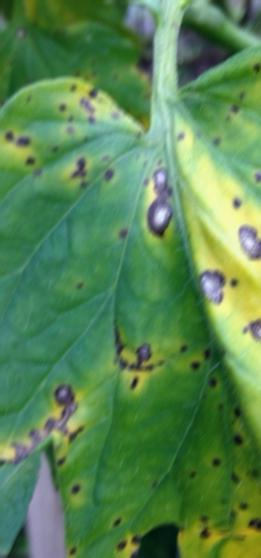Tomato Septoria leaf spot: (0, 41, 261, 558)
